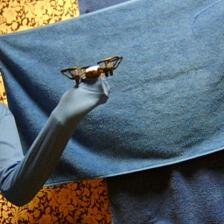drone: (62, 55, 124, 84)
